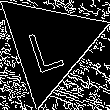L_N: (27, 15, 71, 73)
